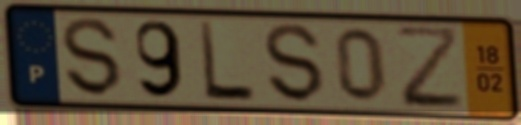0: (332, 25, 392, 106)
9: (133, 18, 185, 102)
L: (195, 18, 258, 105)
S: (261, 21, 328, 106), (59, 15, 125, 100)
Z: (391, 24, 468, 112)
